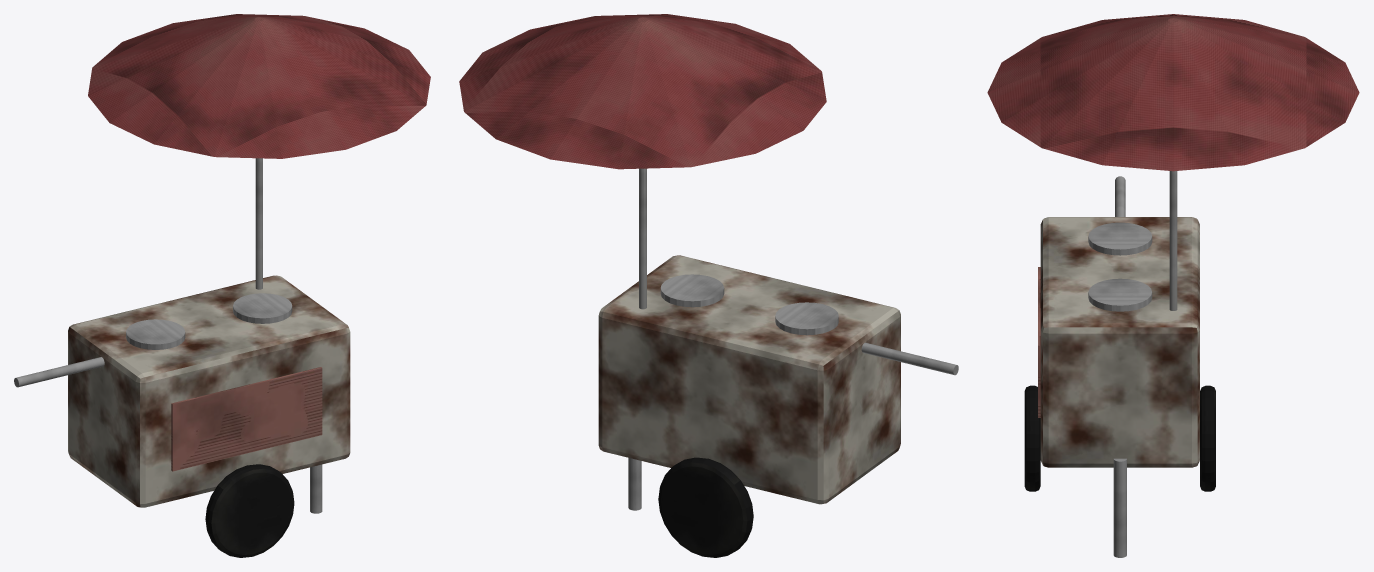
Rendered from W35_IceCreamCart.glb.
3 renders of one model, left to right at view 1: azimuth 30°, elevation 25°; view 2: azimuth 150°, elevation 25°; view 3: azimuth 270°, elevation 25°, orthographic. The views are drawn at different scales.
Parts seen in each view (by area): view 1: W35_IceCreamCart; view 2: W35_IceCreamCart; view 3: W35_IceCreamCart.
Part boxes in pixels (bbox=[...]): W35_IceCreamCart: bbox=[14, 14, 430, 557]; W35_IceCreamCart: bbox=[459, 14, 958, 557]; W35_IceCreamCart: bbox=[987, 14, 1359, 557].
Bounding box in the file's own units: 1.63 × 1.8 × 1.17.
Materials: 5 (5 with a texture image).
